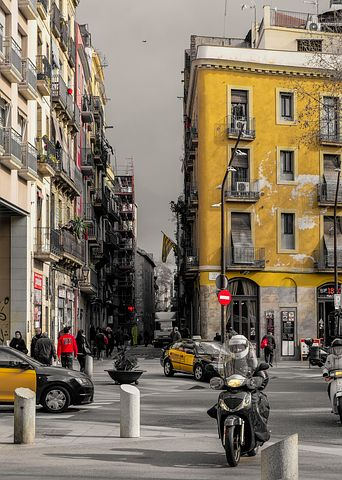Flag: (162, 234, 176, 263)
